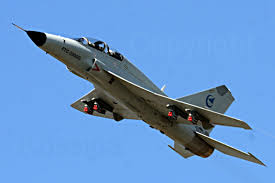maybay_muctieu: (19, 24, 261, 172)
